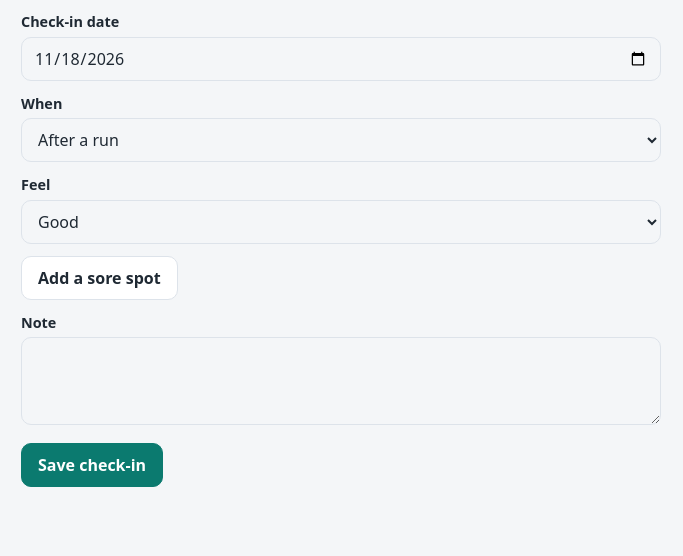
CheckInForm: bad input and errors › shows the error and keeps what you entered when saving fails
Step 1. Type "keep me" into the text box labelled "Note" → {"x": 341, "y": 381}, box [21, 337, 661, 425]
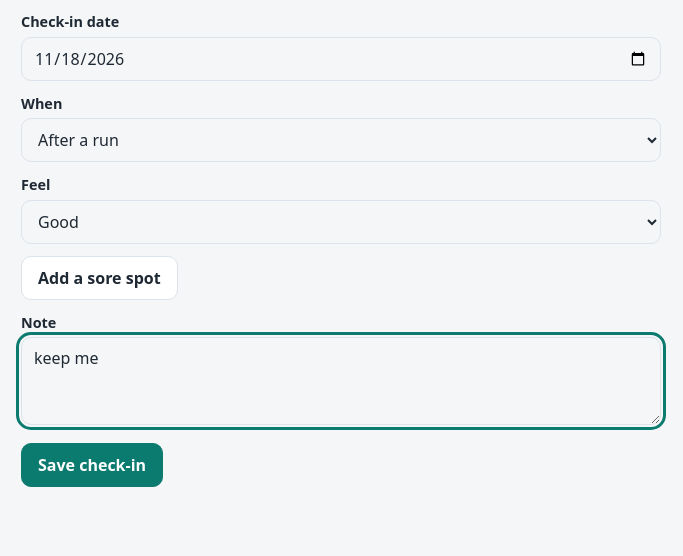
Step 2. Click the button "Save check-in" → {"x": 92, "y": 465}, box [21, 443, 163, 487]
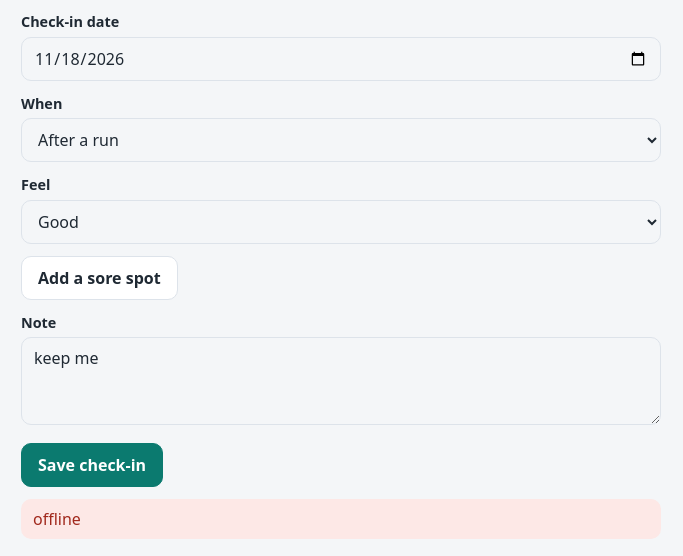
Check: the text "offline" is shown, box [21, 499, 661, 539]
